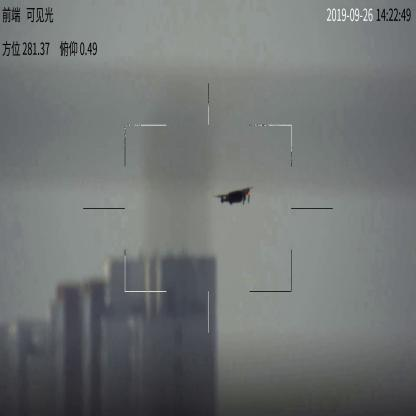uav: (213, 182, 254, 212)
